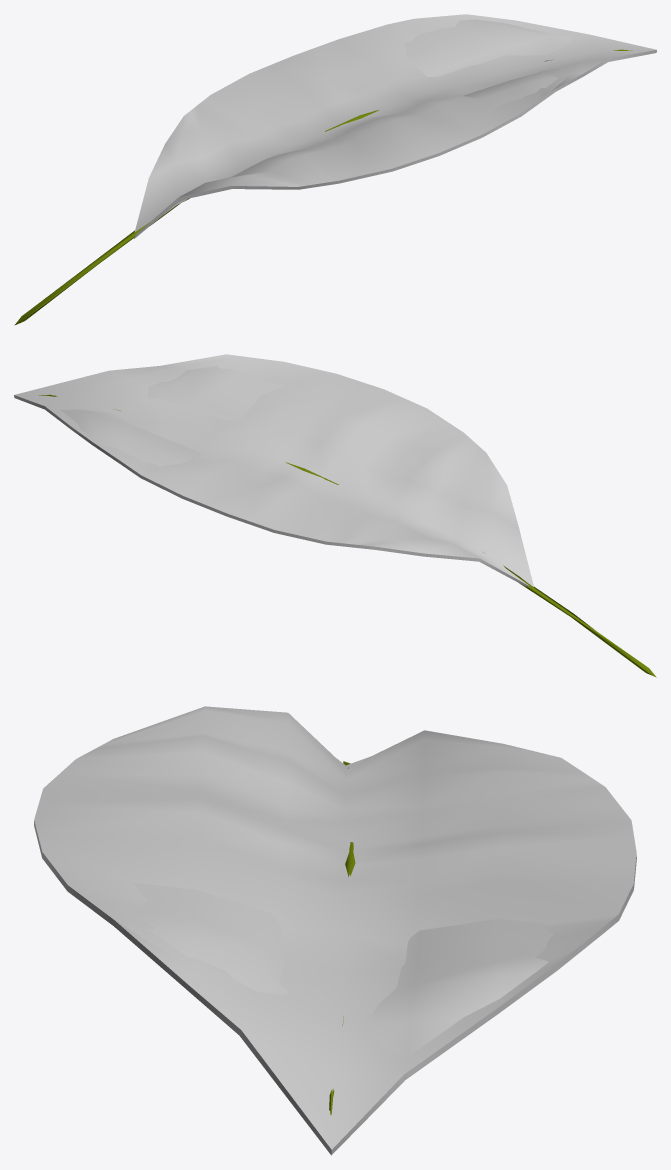
File: leaf.obj
The picture shows the model from 3 angles, top to bottom: view 1: azimuth 30°, elevation 25°; view 2: azimuth 150°, elevation 25°; view 3: azimuth 270°, elevation 25°; orthographic projection. The views are drawn at different scales.
Parts seen in each view (by area): view 1: Plane001; view 2: Plane001; view 3: Plane001.
Part boxes in pixels (x1,y1,x2,y2): Plane001: (14,14,656,325); Plane001: (14,354,656,677); Plane001: (34,706,636,1155).
Size of the model in its own units: 0.4804 by 0.1151 by 0.1959.
